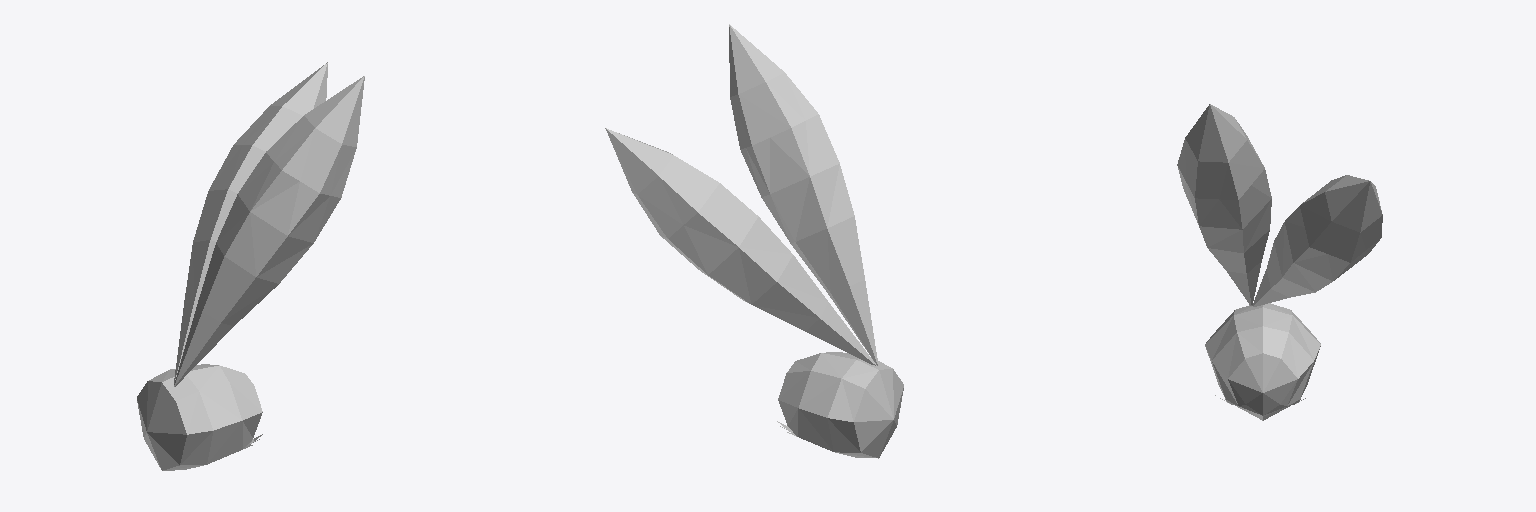
File: Body.obj
The picture shows the model from 3 angles: view 1: azimuth 30°, elevation 25°; view 2: azimuth 150°, elevation 25°; view 3: azimuth 270°, elevation 25°; orthographic projection.
Size of the model in its own units: 15.75 by 24.12 by 11.93.